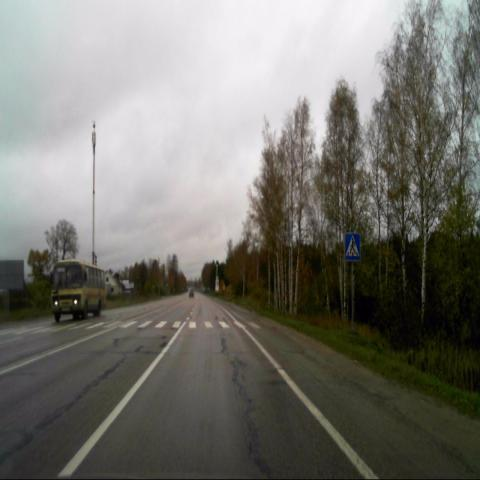5_19_1: (344, 231, 360, 262)
